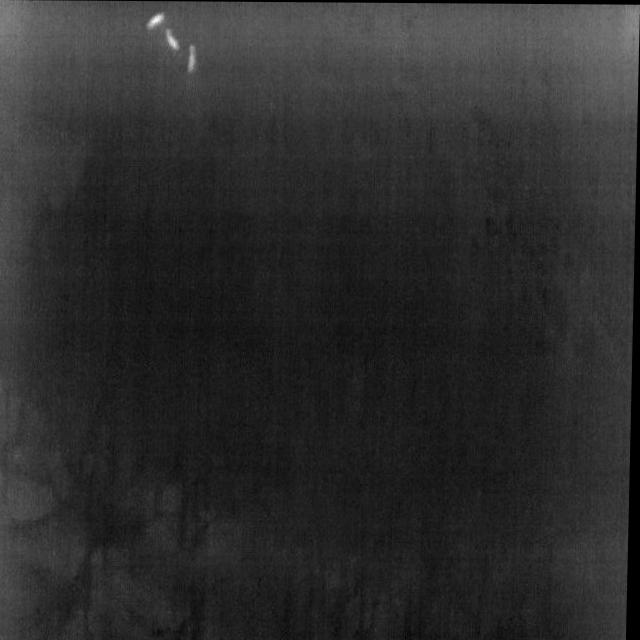deer: (143, 11, 167, 31), (164, 27, 182, 52), (187, 43, 199, 75)
